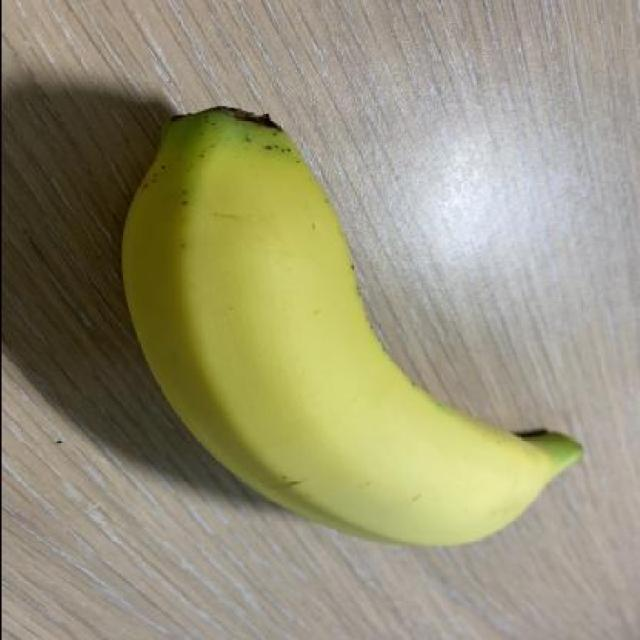Banana: (104, 100, 594, 554)
